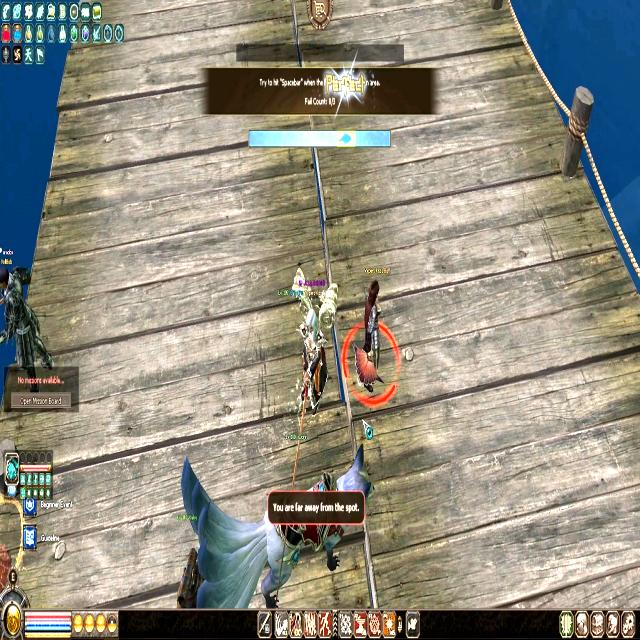fishes: (338, 131, 352, 146)
